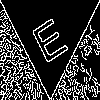E: (25, 8, 70, 65)
